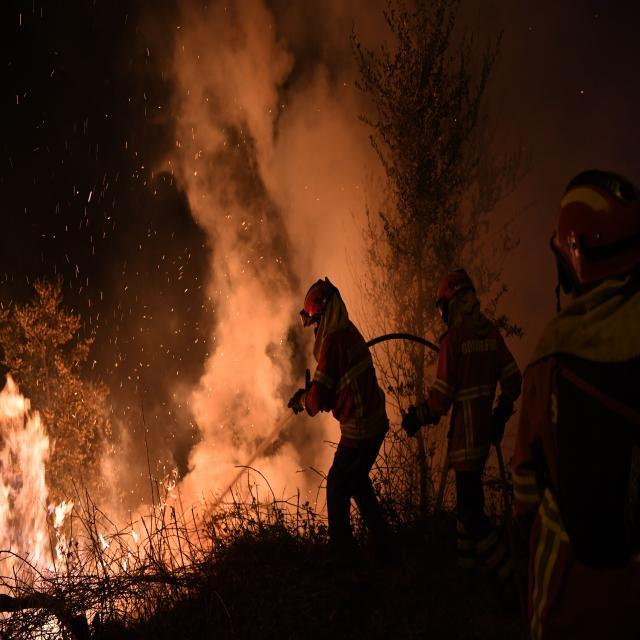Smoke: (150, 0, 393, 548)
